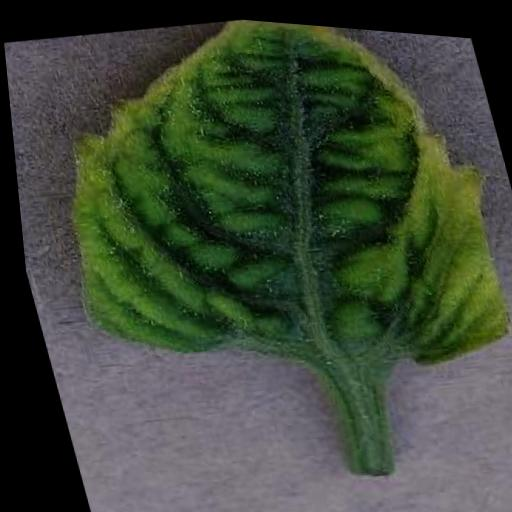Yellow Leaf Curl Virus: (7, 0, 512, 419)
